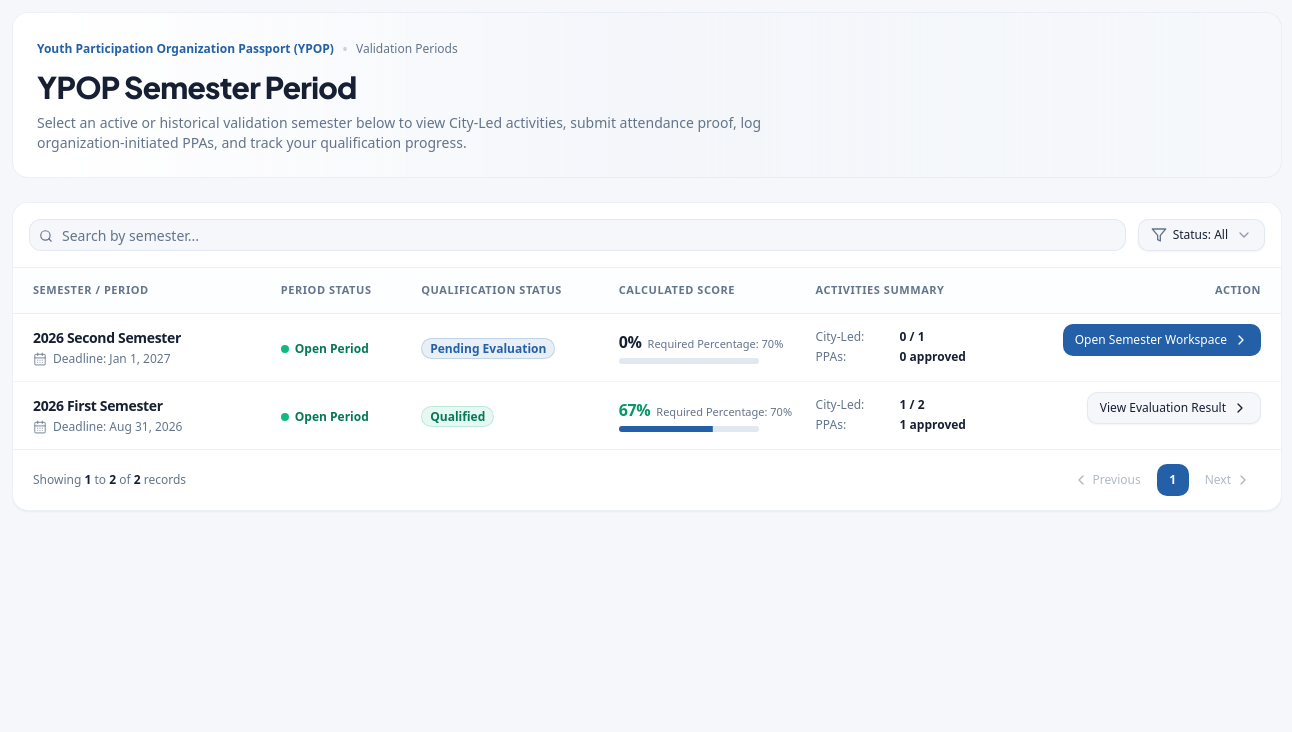
Test: UserPortal YPOP Integration - Admin Configuration & Business Rules › 13 & 14. Project Grant (PPA) / Submit Budget Request card is completely removed from YPOP workspace
Click the button "Open Semester Workspace".
click(1162, 340)  # box [1063, 324, 1261, 356]
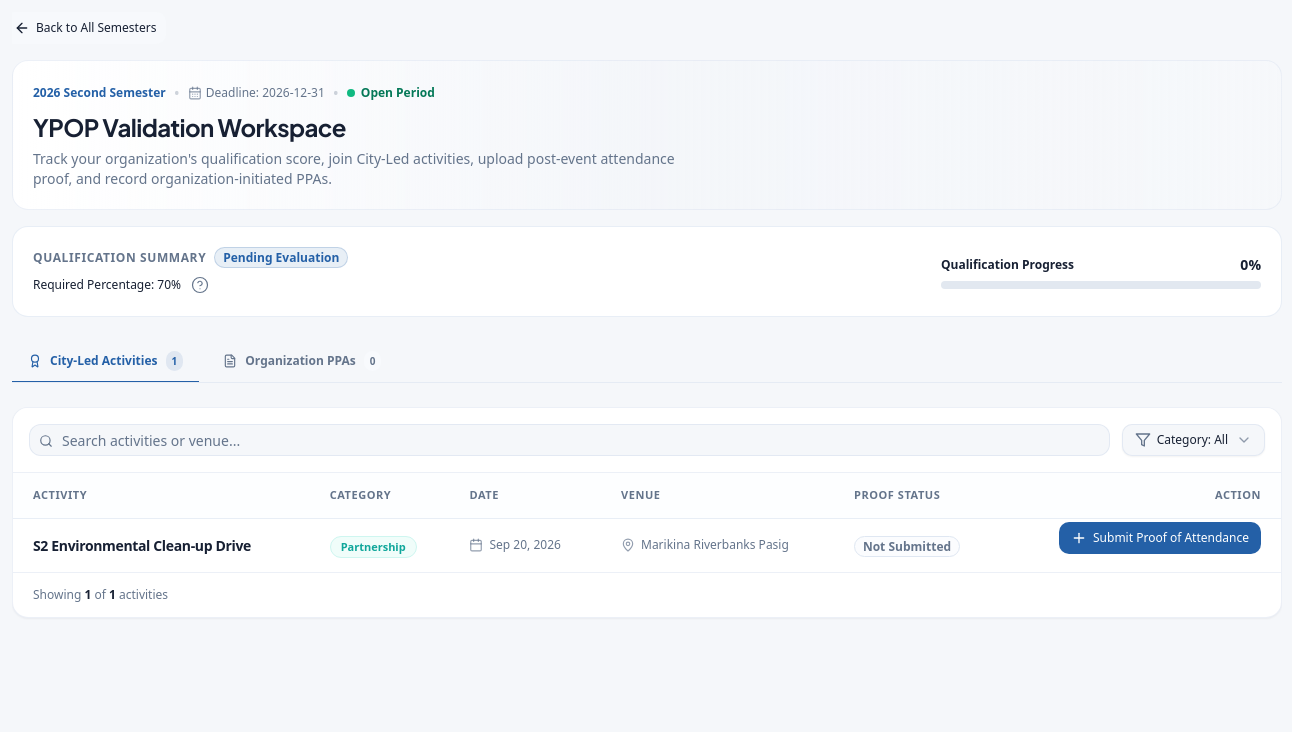
Check: the text "2026 Second Semester" is shown, box [33, 85, 166, 101]
Check: the button "City-Led Activities 1" is shown, box [12, 341, 199, 383]
Check: the button "Organization PPAs 0" is shown, box [207, 341, 397, 383]
